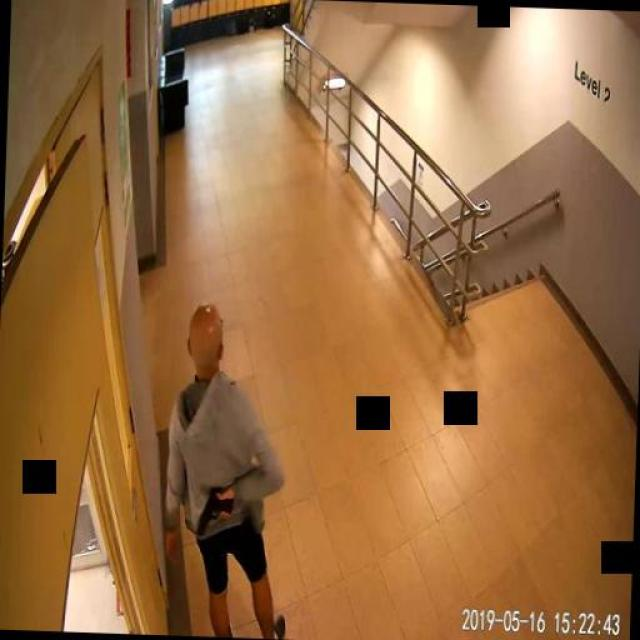gun: (195, 486, 230, 534)
